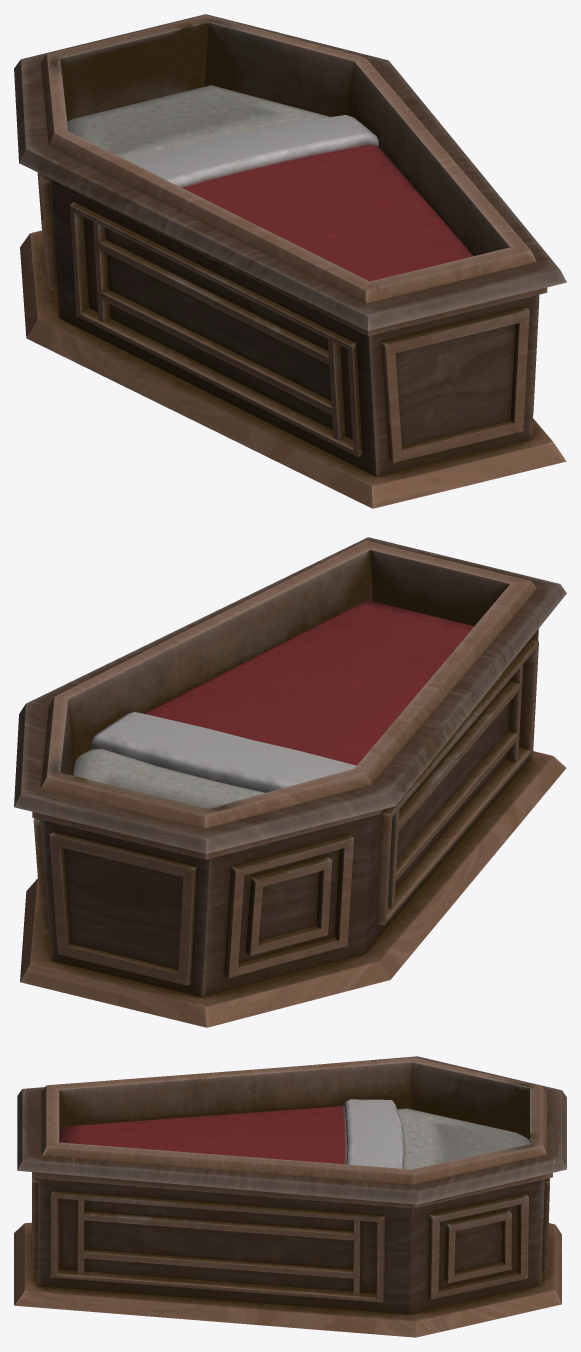
Rendered from vampireBed.fbx.
3 renders of one model, top to bottom at view 1: azimuth 30°, elevation 25°; view 2: azimuth 150°, elevation 25°; view 3: azimuth 270°, elevation 25°, orthographic. The views are drawn at different scales.
Parts seen in each view (by area): view 1: PROP_Vampierbed; view 2: PROP_Vampierbed; view 3: PROP_Vampierbed.
Boxes of the visible parts, x1,y1,x2,y2 form: PROP_Vampierbed: [14, 14, 566, 508]; PROP_Vampierbed: [14, 537, 566, 1027]; PROP_Vampierbed: [14, 1056, 566, 1337].
Bounding box in the file's own units: 1263 × 640 × 2087.
1 material, 1 textured.
